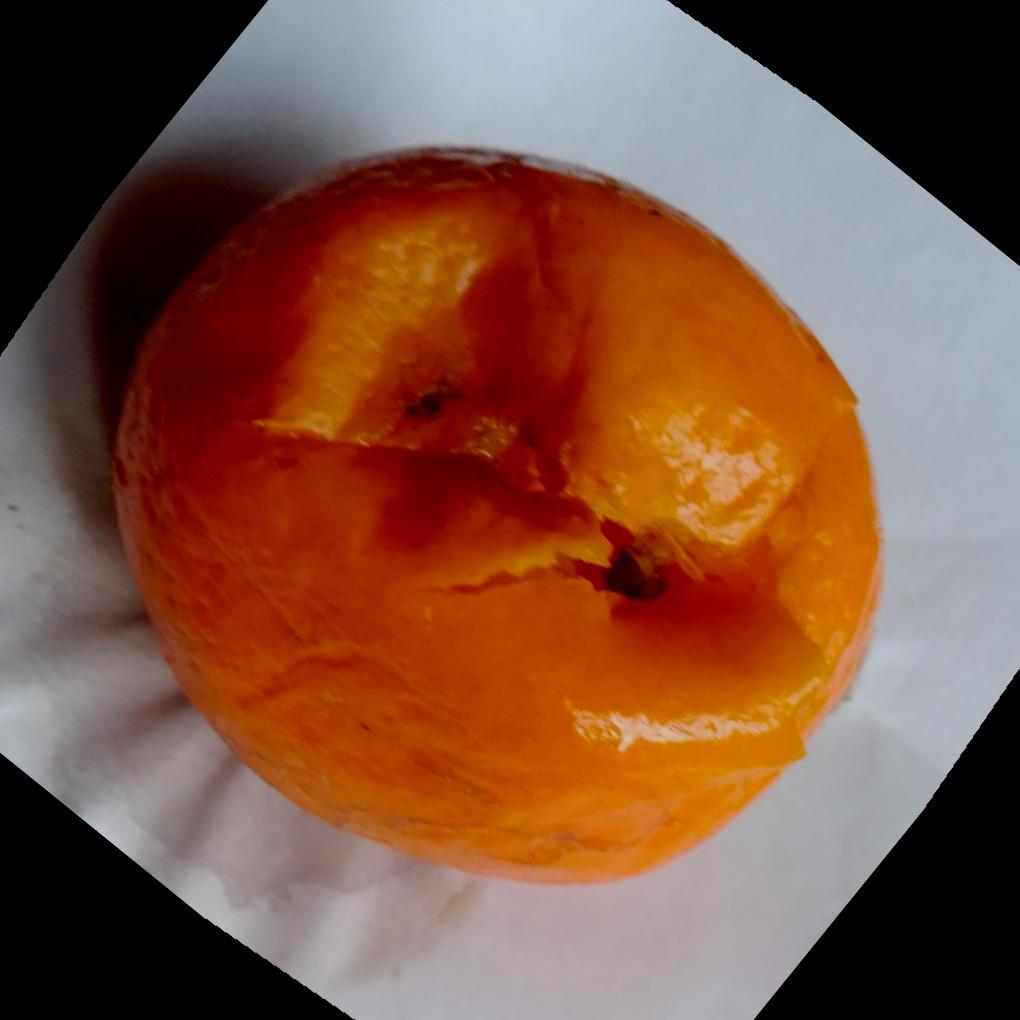FreshOrange: (106, 142, 884, 887)
